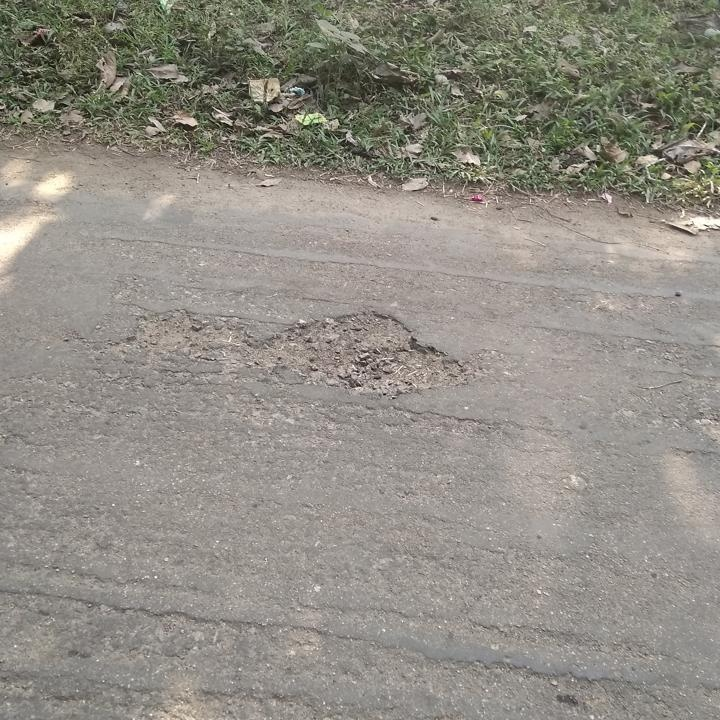pothole: (120, 301, 480, 396)
